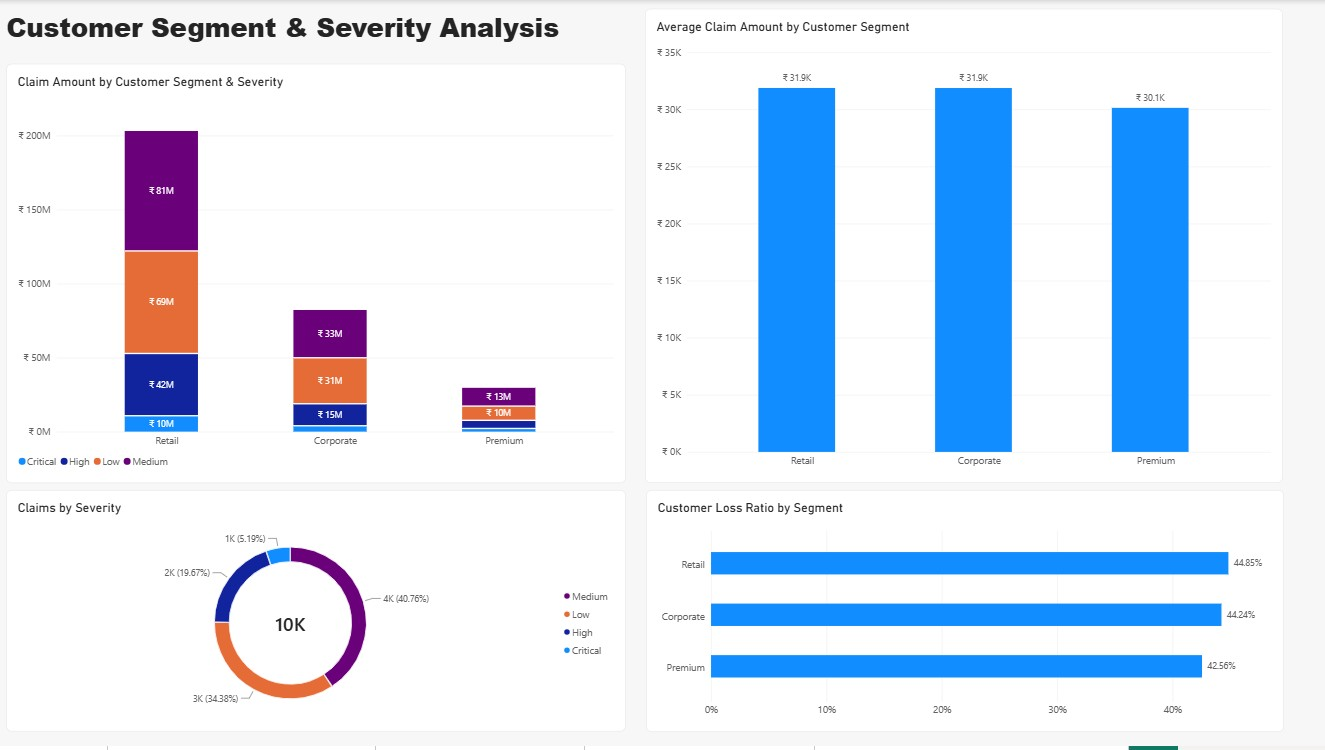

This screenshot's page, from the dashboard's own definition file:
{"tool":"powerbi","page":{"name":"Customer Segment & Severity Analysis","canvas":[1920,1080],"ordinal":4},"visuals":[{"type":"columnChart","title":"Claim Amount by Customer Segment & Severity","fields":{"Category":["Customers.Customer_Segment"],"Series":["Claims.Severity"],"Y":["Measures Table.Total Claim Amount"]},"box":[9.4,92.1,897,607.4],"z":0},{"type":"clusteredColumnChart","title":"Average Claim Amount by Customer Segment","fields":{"Category":["Customers.Customer_Segment"],"Y":["Measures Table.Average Claim Amount"]},"box":[934.6,13.2,923.3,686.4],"z":1},{"type":"donutChart","title":"Claims by Severity","fields":{"Category":["Claims.Severity"],"Y":["Measures Table.Total Claims"]},"box":[9.4,709,897,349.8],"z":2},{"type":"clusteredBarChart","title":"Customer Loss Ratio by Segment","fields":{"Category":["Customers.Customer_Segment"],"Y":["Measures Table.Customer Loss Ratio"]},"box":[935,709,923,350],"z":3},{"type":"textbox","box":[9.4,13.2,897,79],"z":4}]}

Visuals, with their boxes in screenshot pixels (x1, y1, x2, y2), scaled from the page's 1920x1080 canvas onto the 1325x750 screenshot:
"Claim Amount by Customer Segment & Severity" columnChart: locate(6, 64, 626, 486)
"Average Claim Amount by Customer Segment" clusteredColumnChart: locate(645, 9, 1282, 486)
"Claims by Severity" donutChart: locate(6, 492, 626, 735)
"Customer Loss Ratio by Segment" clusteredBarChart: locate(645, 492, 1282, 735)
textbox: locate(6, 9, 626, 64)
